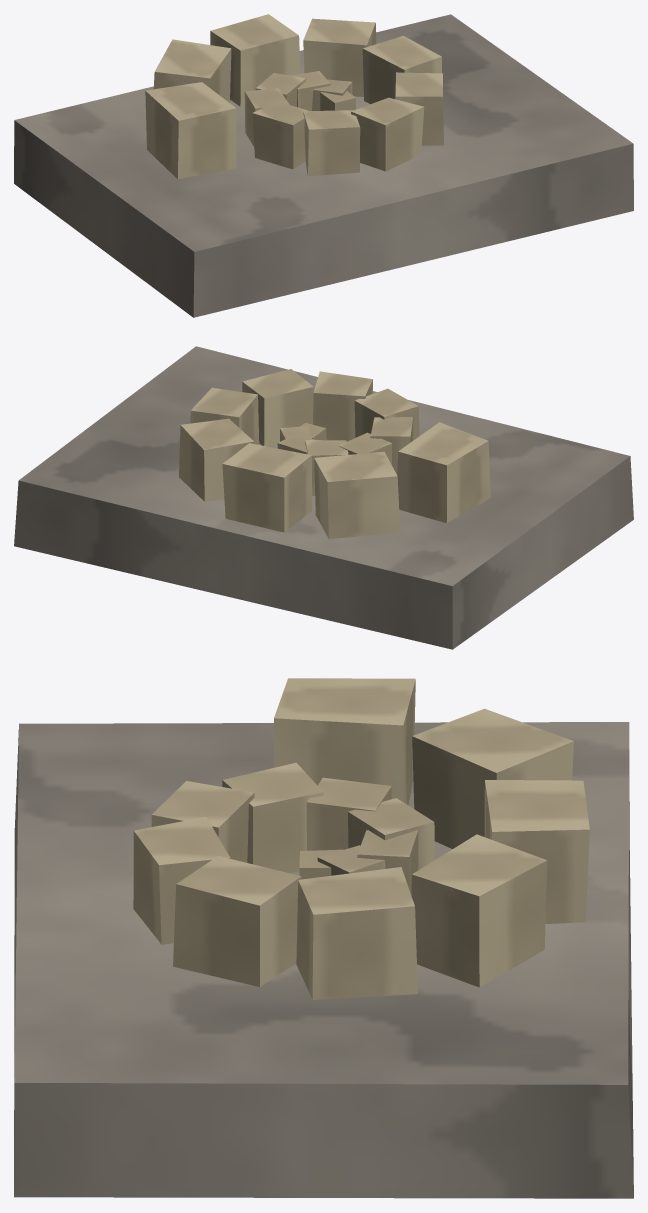
File: fossil.glb
The picture shows the model from 3 angles, top to bottom: view 1: azimuth 30°, elevation 25°; view 2: azimuth 150°, elevation 25°; view 3: azimuth 270°, elevation 25°; orthographic projection. The views are drawn at different scales.
Visible parts, largest first — view 1: Fossil; view 2: Fossil; view 3: Fossil.
Part boxes in pixels (<box>): Fossil: <box>14,14,633,317</box>; Fossil: <box>14,346,633,649</box>; Fossil: <box>14,678,633,1198</box>.
Size of the model in its own units: 0.3937 by 0.1072 by 0.282.
Materials: 2 (2 with a texture image).
